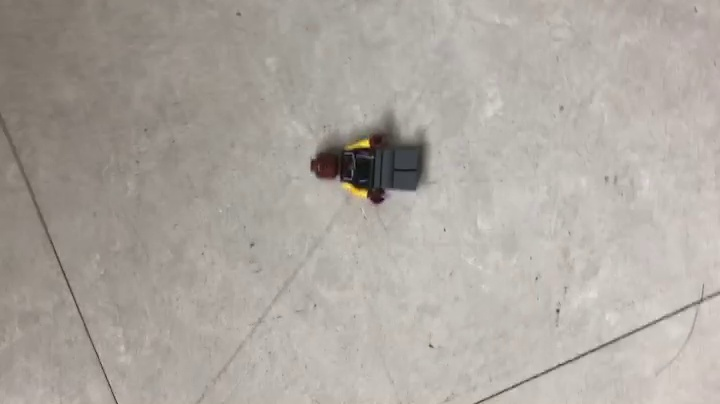people: (309, 131, 432, 204)
